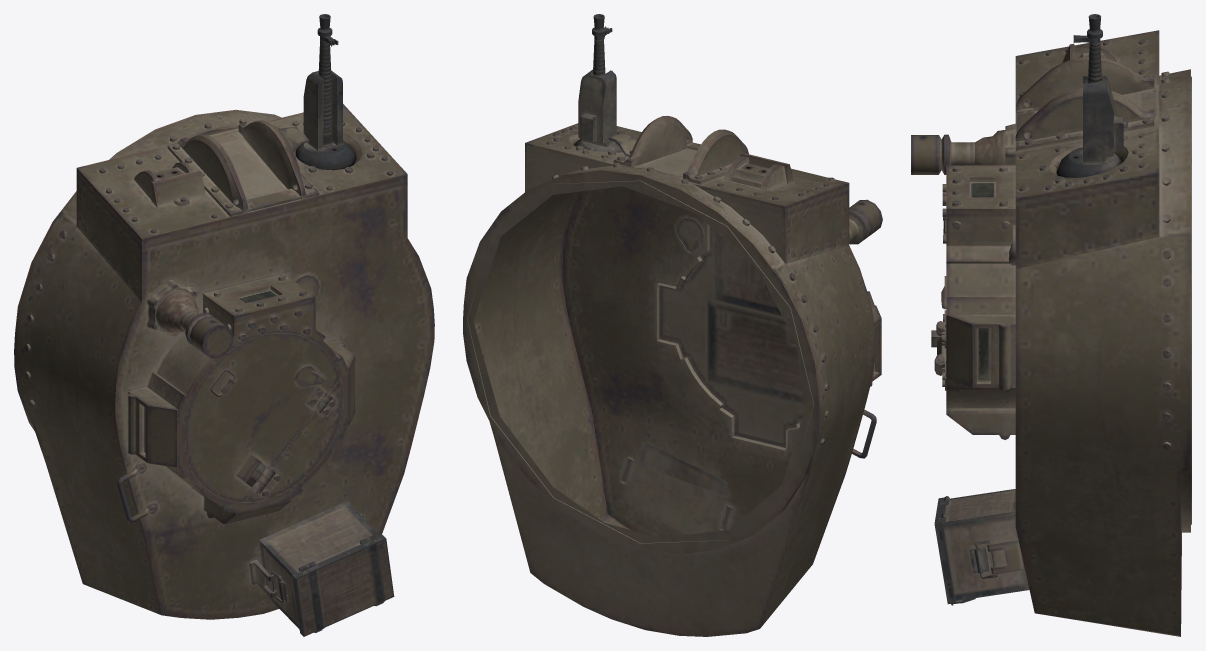
Rendered from Turret_02.glb.
The picture shows the model from 3 angles, left to right: view 1: azimuth 30°, elevation 25°; view 2: azimuth 150°, elevation 25°; view 3: azimuth 270°, elevation 25°; orthographic projection. The views are drawn at different scales.
Parts seen in each view (by area): view 1: set_0_group_0; view 2: set_0_group_0; view 3: set_0_group_0.
Boxes of the visible parts, x1,y1,x2,y2 form: set_0_group_0: [14, 14, 434, 636]; set_0_group_0: [463, 14, 882, 636]; set_0_group_0: [911, 14, 1191, 636].
Bounding box in the file's own units: 1.38 × 2.09 × 0.839.
1 material, 1 textured.
